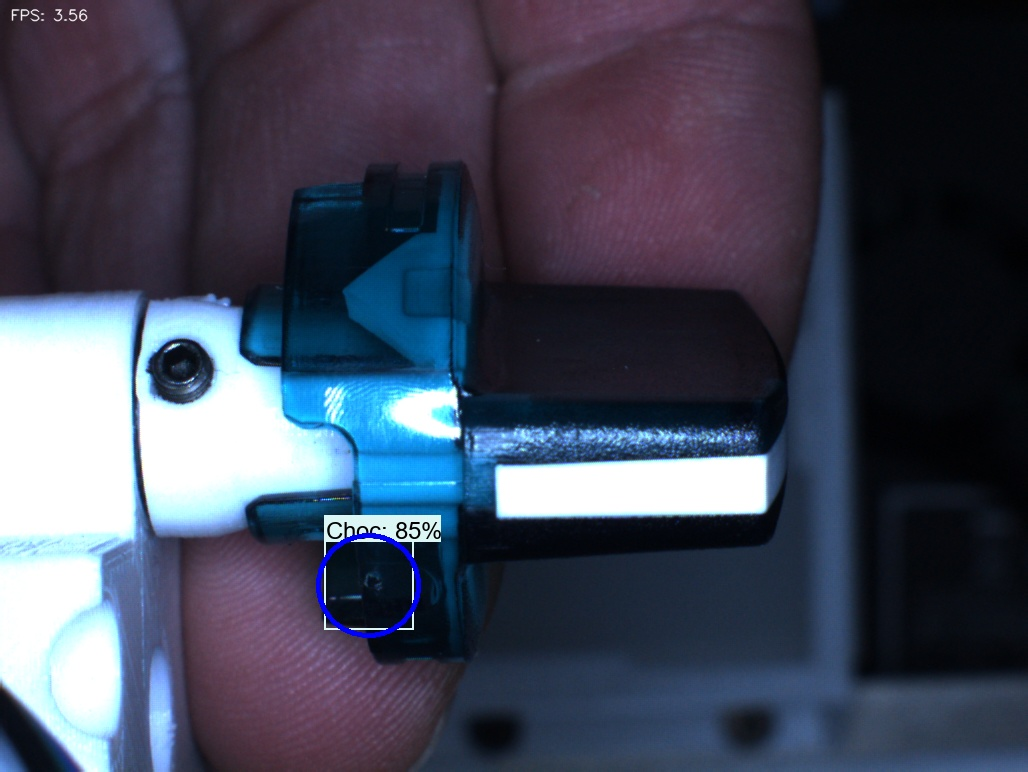DentOk: (317, 243, 390, 340)
